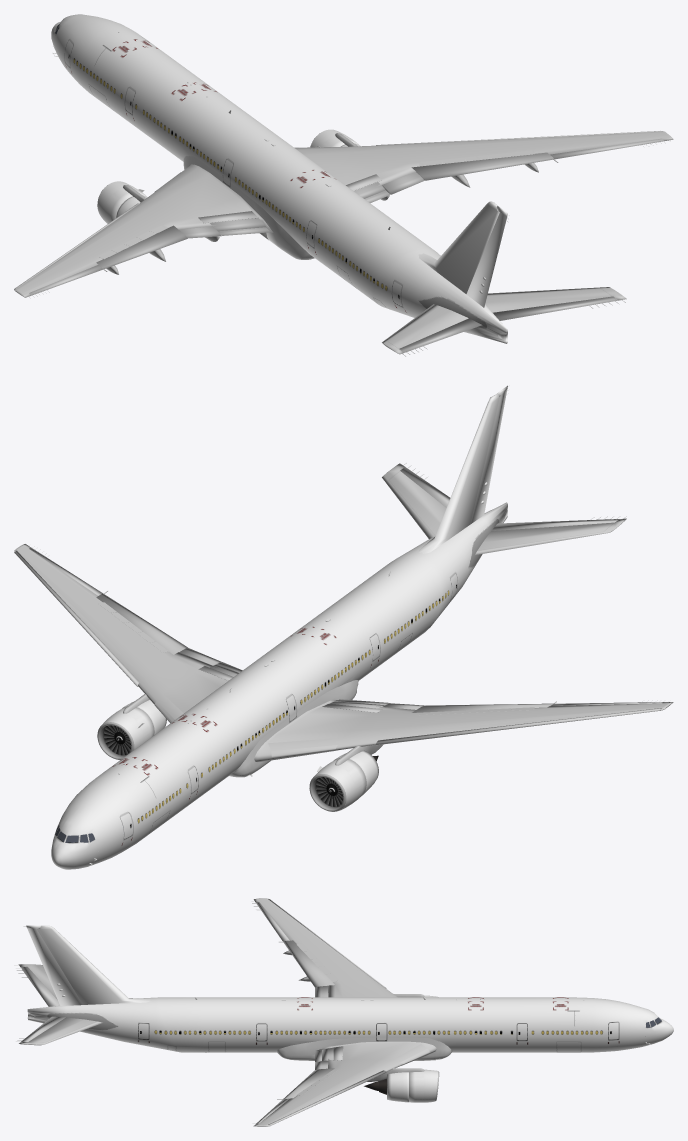
The picture shows the model from 3 angles, top to bottom: view 1: azimuth 30°, elevation 25°; view 2: azimuth 150°, elevation 25°; view 3: azimuth 270°, elevation 25°; orthographic projection. The views are drawn at different scales.
Visible parts, largest first — view 1: Fuselage, Wings, Fuselage_005, Tail, RHstab, LHstab, Rflap4, Rudder, Engines, Lflap4, RHelevator, LHelevator (+3 smaller); view 2: Fuselage, Wings, Fuselage_005, Tail, Engines, LHstab, RHstab, Lslat, Rudder, Rflap4, Reversers, Rslat (+3 smaller); view 3: Fuselage, Fuselage_005, Wings, Tail, Rudder, Engines, RHstab, Lflap4, cabinlighting, Reversers, LHelevator, Rslat (+3 smaller).
Boxes of the visible parts, x1,y1,x2,y2 form: Fuselage: (51, 14, 507, 341); Wings: (14, 131, 673, 297); Fuselage_005: (53, 27, 507, 343); Tail: (418, 201, 499, 293); RHstab: (485, 287, 626, 312); LHstab: (382, 304, 468, 356); Rflap4: (411, 152, 553, 180); Rudder: (466, 206, 508, 307); Engines: (97, 129, 358, 223); Lflap4: (96, 225, 187, 269); RHelevator: (493, 296, 618, 320); LHelevator: (399, 318, 482, 354); Fuselage: (51, 502, 507, 865); Wings: (14, 544, 673, 765); Fuselage_005: (53, 507, 507, 869); Tail: (418, 393, 501, 553); Engines: (102, 706, 378, 810); LHstab: (475, 516, 626, 554); RHstab: (382, 463, 446, 538); Lslat: (376, 708, 661, 745); Rudder: (470, 385, 509, 524); Rflap4: (96, 593, 187, 654); Reversers: (122, 700, 378, 795); Rslat: (15, 550, 139, 686); Fuselage: (27, 997, 673, 1059); Fuselage_005: (27, 997, 671, 1060); Wings: (251, 898, 436, 1126); Tail: (37, 925, 150, 1004); Rudder: (23, 925, 82, 1005); Engines: (364, 995, 437, 1102); RHstab: (19, 1017, 102, 1045); Lflap4: (283, 940, 334, 987); cabinlighting: (154, 1030, 602, 1034); Reversers: (387, 1072, 408, 1102); LHelevator: (16, 966, 59, 1006); Rslat: (268, 1070, 386, 1125).
Bounding box in the file's own units: 60.72 × 74.38 × 17.22.
